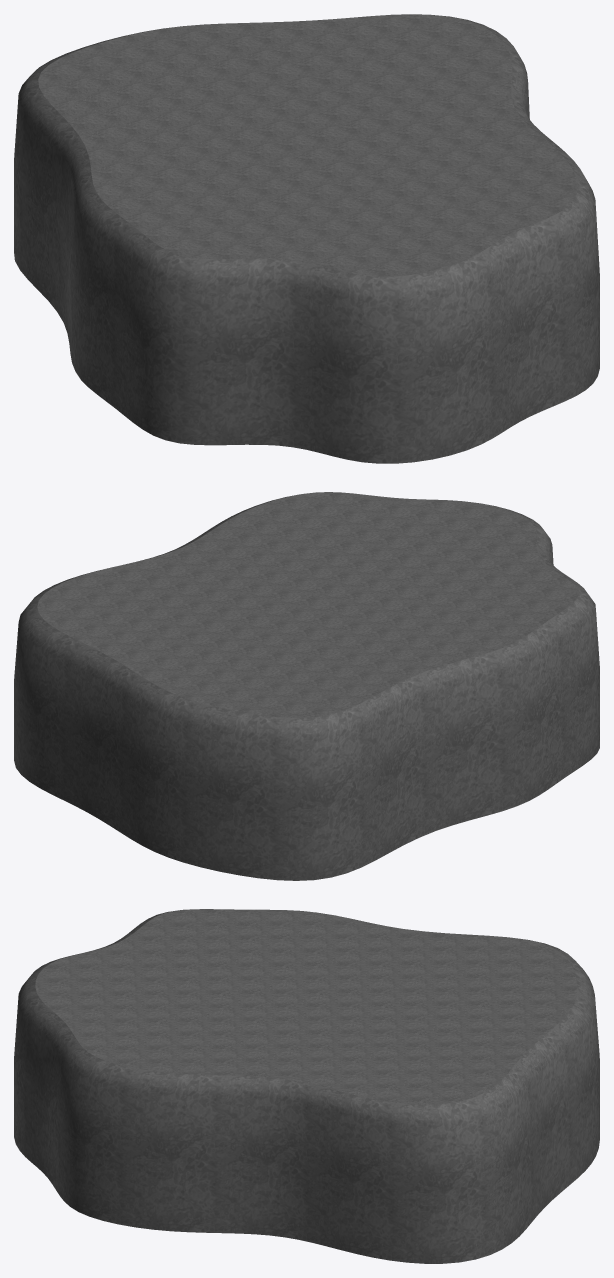
Rendered from MainBeachTest.fbx.
3 renders of one model, top to bottom at view 1: azimuth 30°, elevation 25°; view 2: azimuth 150°, elevation 25°; view 3: azimuth 270°, elevation 25°, orthographic. The views are drawn at different scales.
Visible parts, largest first — view 1: Plane.005; view 2: Plane.005; view 3: Plane.005.
Part boxes in pixels (box(x1,y1,x2,y2)): Plane.005: box(14, 14, 599, 463); Plane.005: box(14, 492, 599, 880); Plane.005: box(14, 909, 599, 1263).
Size of the model in its own units: 1480177 by 490340 by 1727631.
Materials: 3 (3 with a texture image).
